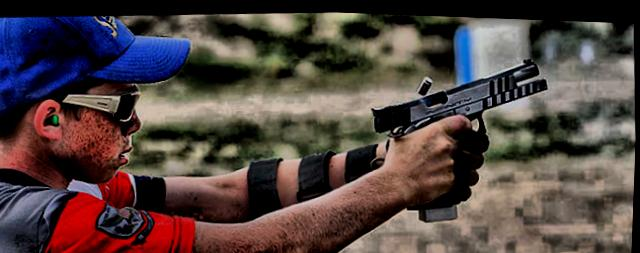pistol: (363, 42, 560, 226)
